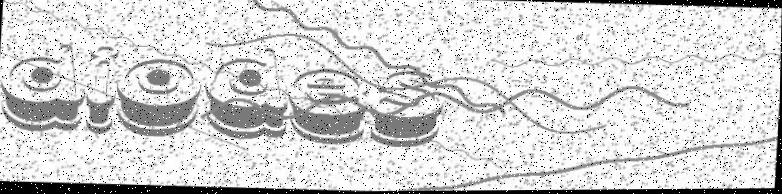d: (204, 46, 292, 141), (2, 43, 87, 132)
e: (288, 67, 368, 147)
i: (86, 47, 117, 135)
o: (116, 57, 203, 137)
s: (369, 68, 447, 149)
